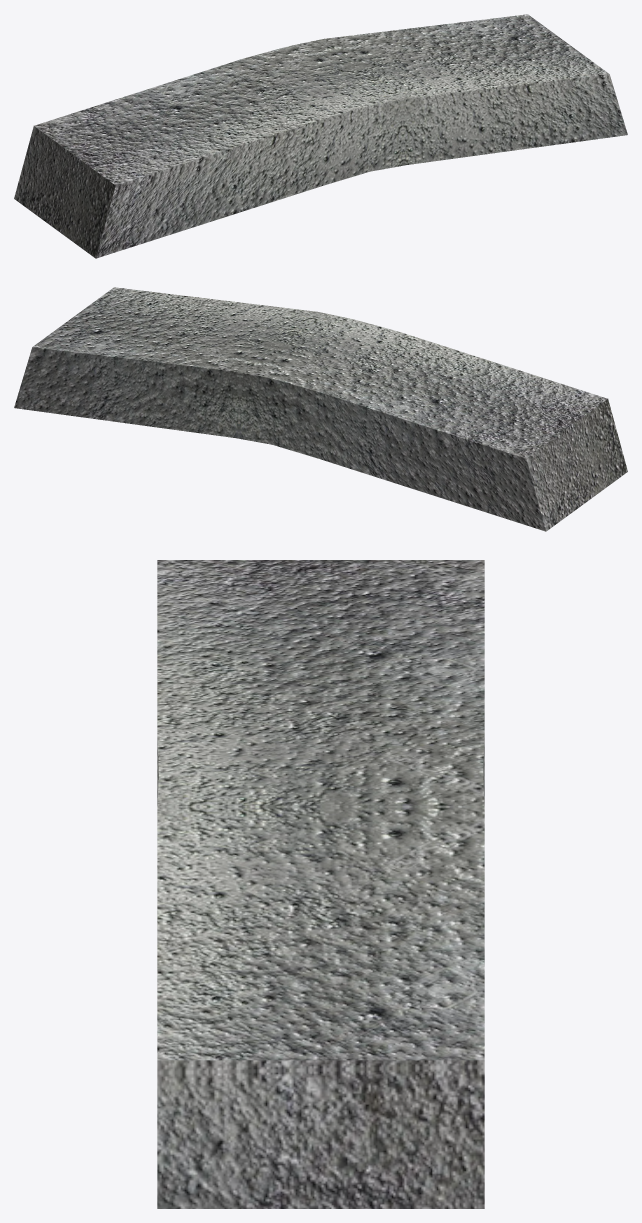
The model's file is Ingot.fbx.
The picture shows the model from 3 angles, top to bottom: view 1: azimuth 30°, elevation 25°; view 2: azimuth 150°, elevation 25°; view 3: azimuth 270°, elevation 25°; orthographic projection. The views are drawn at different scales.
Parts seen in each view (by area): view 1: pCube2; view 2: pCube2; view 3: pCube2.
Boxes of the visible parts, x1,y1,x2,y2 form: pCube2: (14, 14, 627, 258); pCube2: (14, 287, 627, 531); pCube2: (157, 560, 484, 1208).
Bounding box in the file's own units: 3.14 × 0.5188 × 0.8352.
